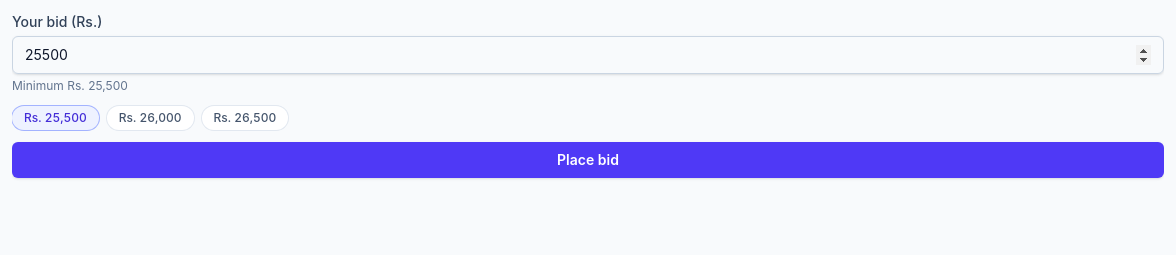
Test case: <BidForm> › shows a friendly message when the server says the bid is too low
This screenshot has width=1176, height=255.
Step 1. Click the button "Place bid" → [588, 160], box [12,142,1164,178]
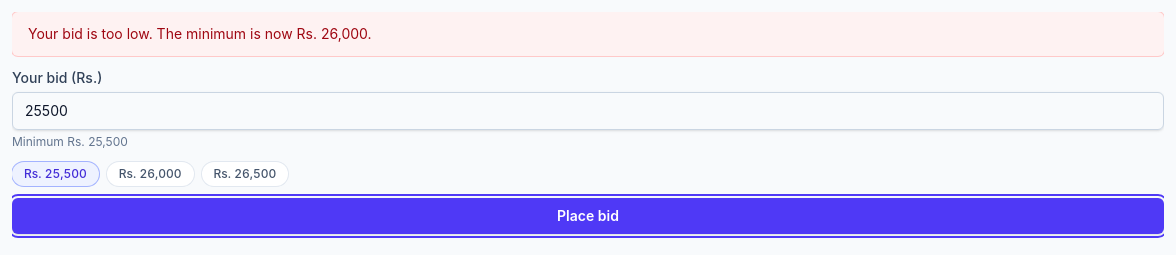
Expected: the text "Your bid is too low. The minimum is now Rs. 26,000." is shown, [12,12,1164,56]
